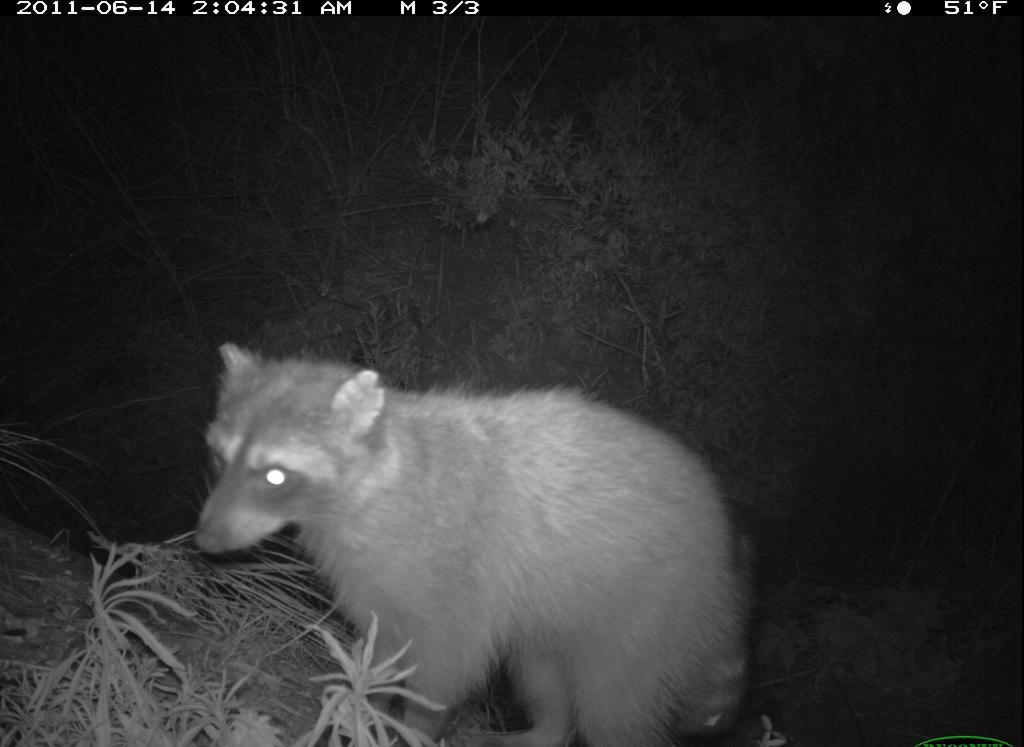raccoon: (186, 335, 775, 747)
